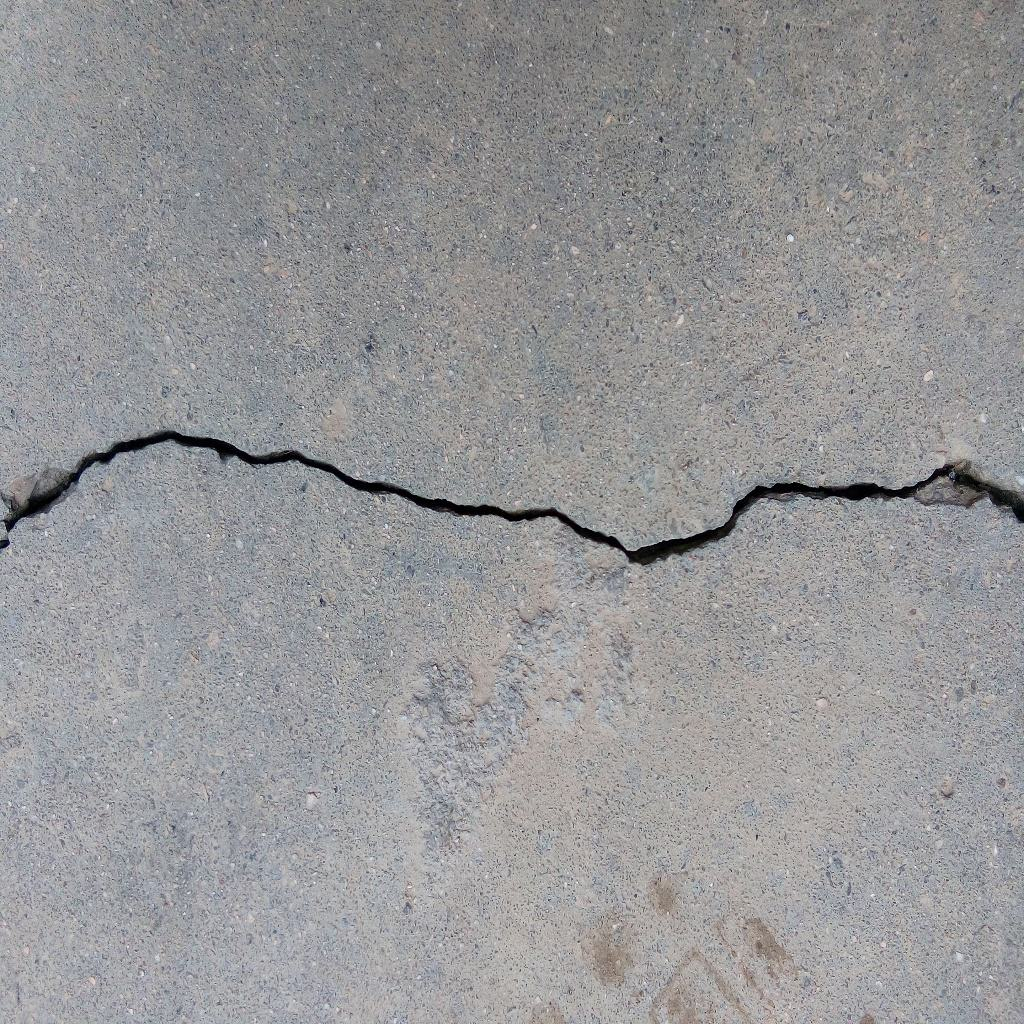Crack: (1, 427, 1024, 567)
